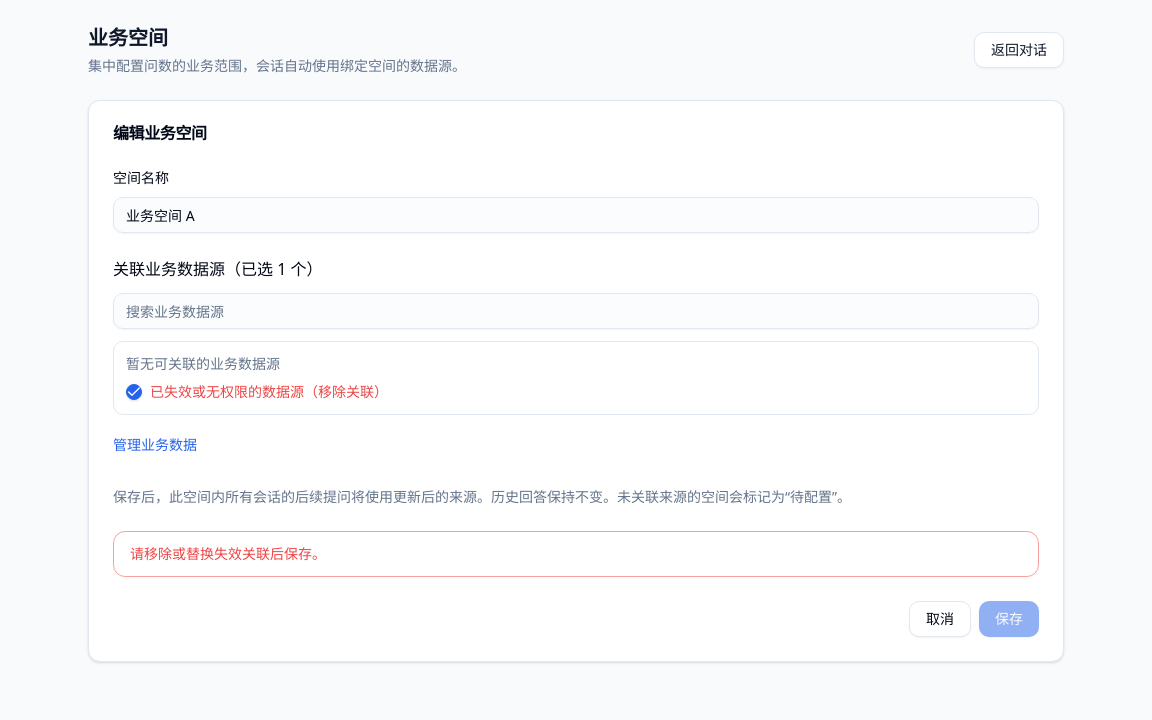
Test: cancel leaves configuration untouched
This screenshot has width=1152, height=720.
Type "临时修改" into the field labelled "空间名称" at (576, 215), box [113,197,1039,233]
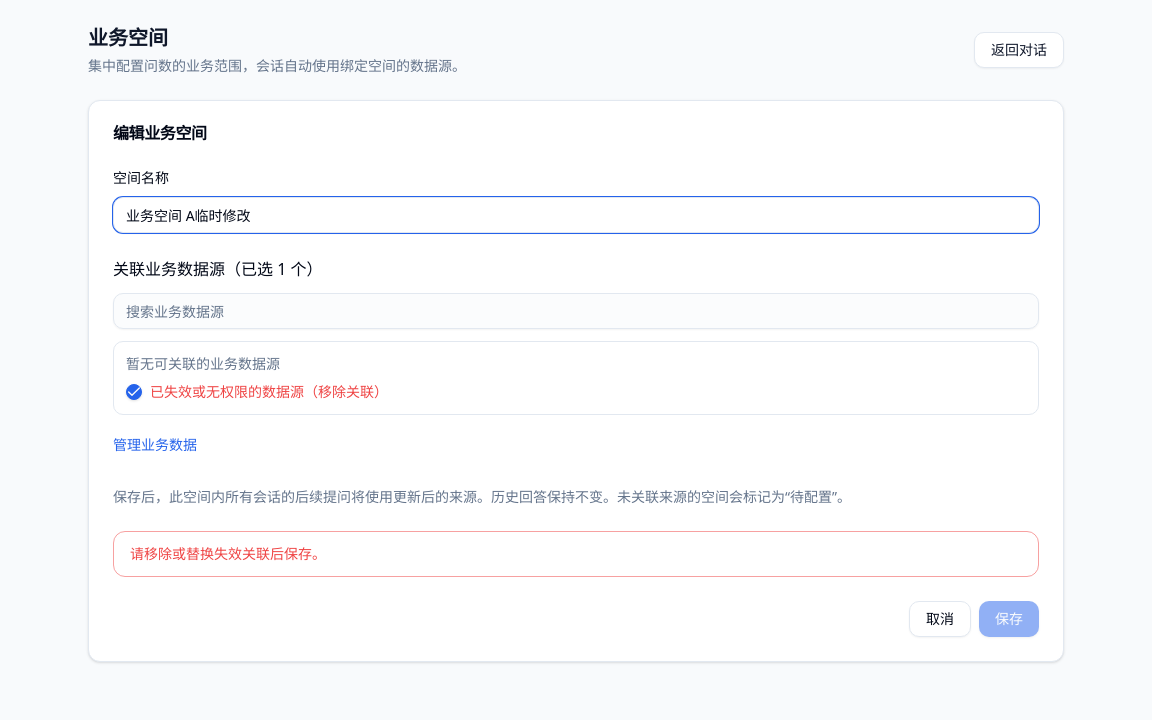
Click the button "取消" at (940, 619), box [909,601,971,637]
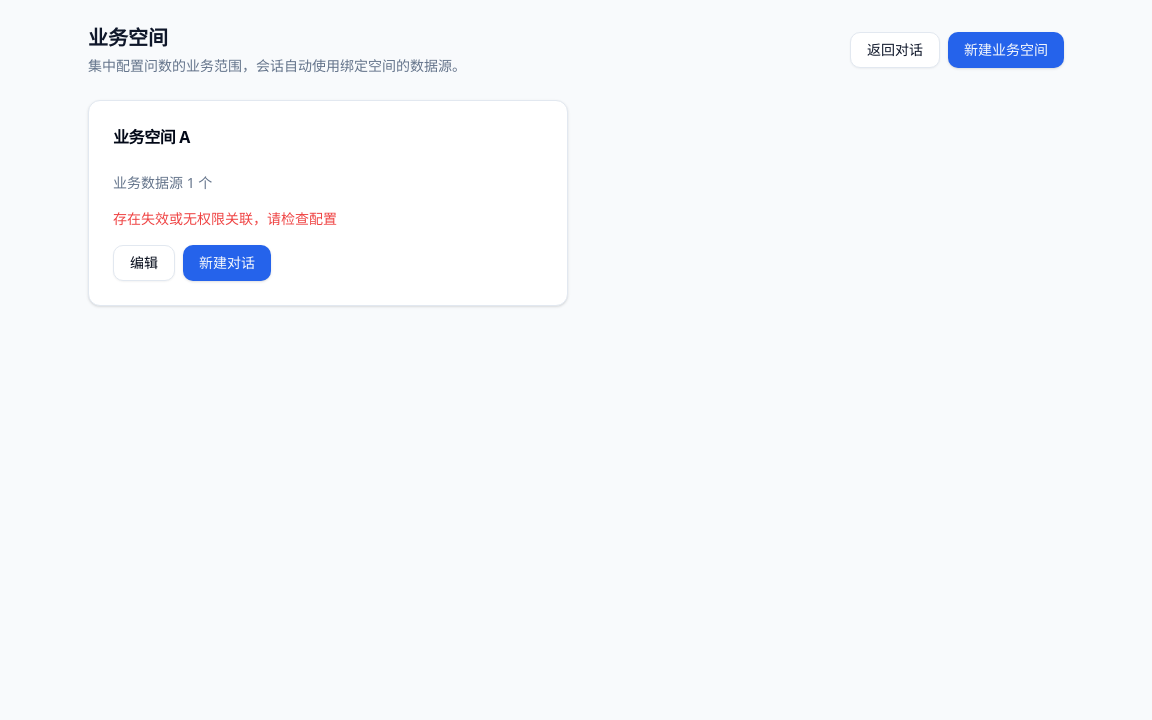
Result: the heading "业务空间 A" is shown at [113,126,190,148]
